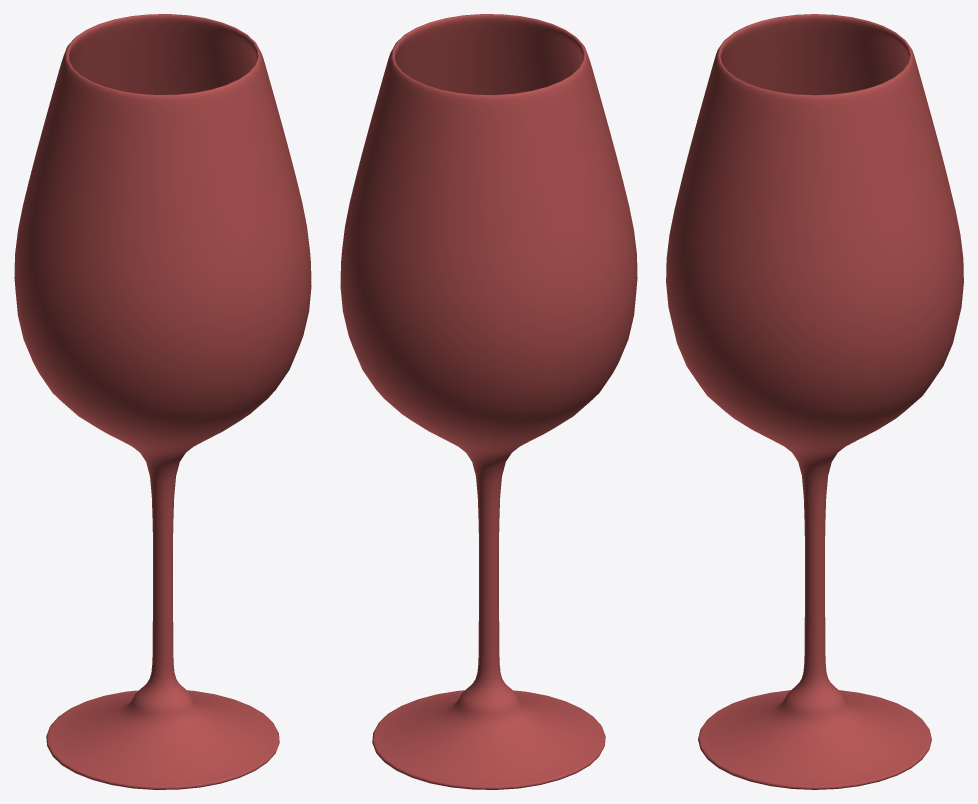
File: WineGlass.fbx
3 views of the same model, side by side, from view 1: azimuth 30°, elevation 25°; view 2: azimuth 150°, elevation 25°; view 3: azimuth 270°, elevation 25° (orthographic).
Visible parts, largest first — view 1: Glass; view 2: Glass; view 3: Glass.
Boxes of the visible parts, x1,y1,x2,y2 form: Glass: [14, 14, 311, 789]; Glass: [340, 14, 637, 789]; Glass: [666, 14, 963, 789].
Bounding box in the file's own units: 2.24 × 5.7 × 2.24.
